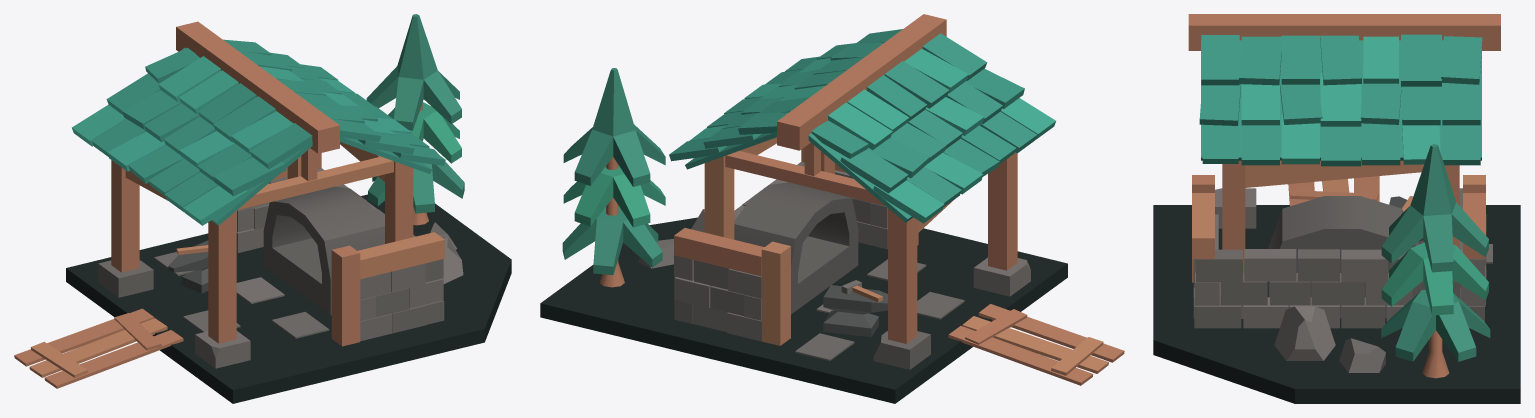
The model's file is TheWell.fbx.
3 renders of one model, left to right at view 1: azimuth 30°, elevation 25°; view 2: azimuth 150°, elevation 25°; view 3: azimuth 270°, elevation 25°, orthographic. The views are drawn at different scales.
Visible parts, largest first — view 1: Cylinder010; view 2: Cylinder010; view 3: Cylinder010.
Boxes of the visible parts, left/top/right/bottom form: Cylinder010: left=14, top=14, right=511, bottom=403; Cylinder010: left=540, top=14, right=1124, bottom=403; Cylinder010: left=1153, top=14, right=1520, bottom=403.
Bounding box in the file's own units: 77.81 × 37.65 × 47.91.
